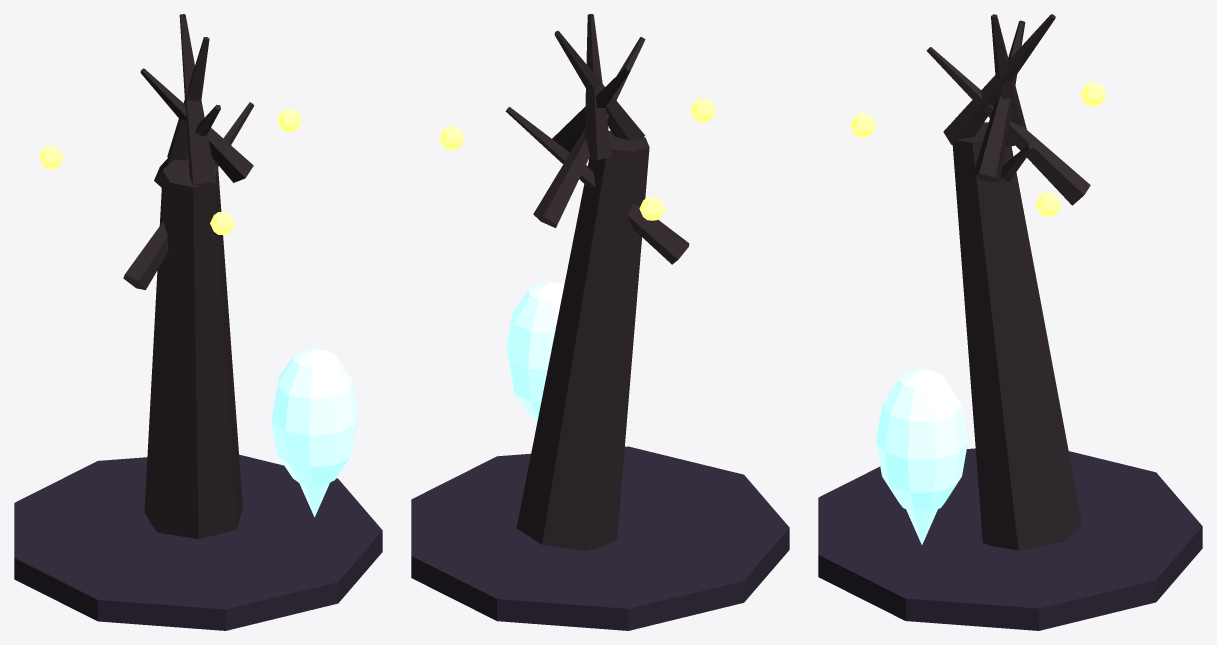
The model's file is prop-dead-tree.glb.
3 renders of one model, left to right at view 1: azimuth 30°, elevation 25°; view 2: azimuth 150°, elevation 25°; view 3: azimuth 270°, elevation 25°, orthographic. The views are drawn at different scales.
Parts seen in each view (by area): view 1: cw_paint, cw_neon, cw_glow; view 2: cw_paint, cw_neon, cw_glow; view 3: cw_paint, cw_neon, cw_glow.
Part boxes in pixels (x1,y1,x2,y2): cw_paint: (14, 14, 382, 630); cw_neon: (271, 349, 357, 517); cw_glow: (38, 109, 301, 234); cw_paint: (411, 14, 789, 630); cw_neon: (506, 281, 564, 423); cw_glow: (439, 98, 715, 220); cw_paint: (818, 14, 1202, 630); cw_neon: (876, 369, 967, 544); cw_glow: (850, 82, 1106, 216).
Bounding box in the file's own units: 2.36 × 3.61 × 2.33.
